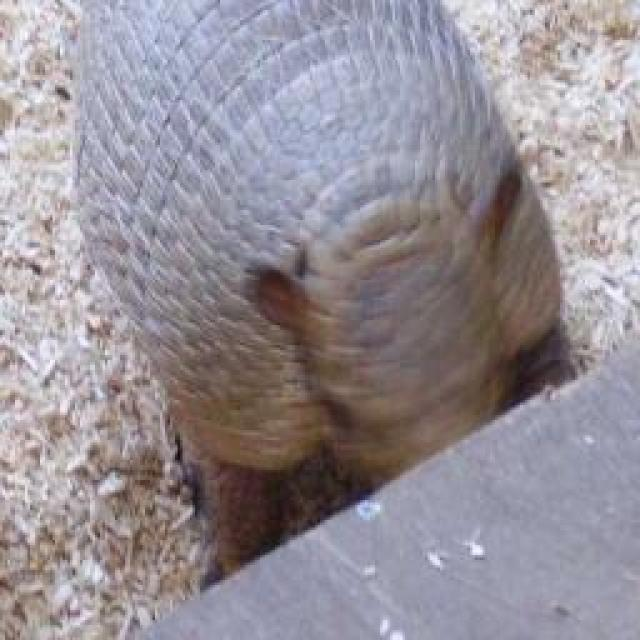not_pig: (64, 0, 577, 582)
